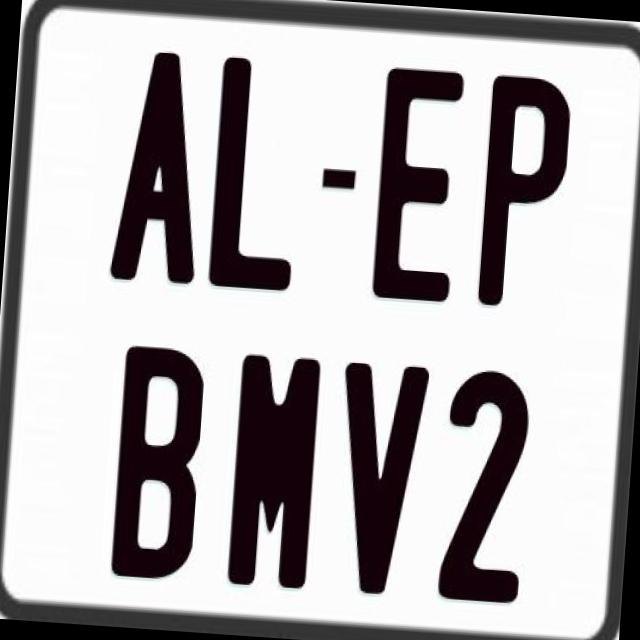2: (432, 367, 528, 611)
A: (108, 46, 215, 288)
B: (110, 344, 206, 588)
E: (370, 61, 468, 298)
L: (208, 56, 312, 298)
M: (226, 352, 320, 588)
P: (477, 72, 575, 311)
V: (324, 362, 426, 606)
